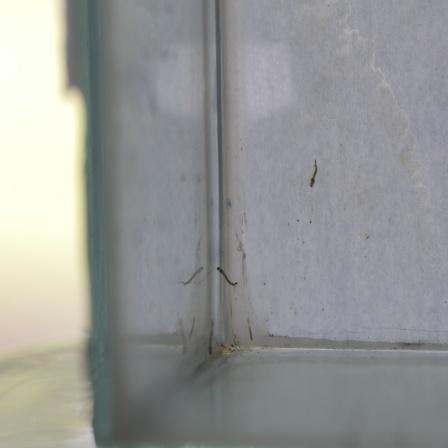Jentik-Nyamuk: (211, 262, 241, 290), (202, 317, 217, 358), (306, 157, 322, 189)
